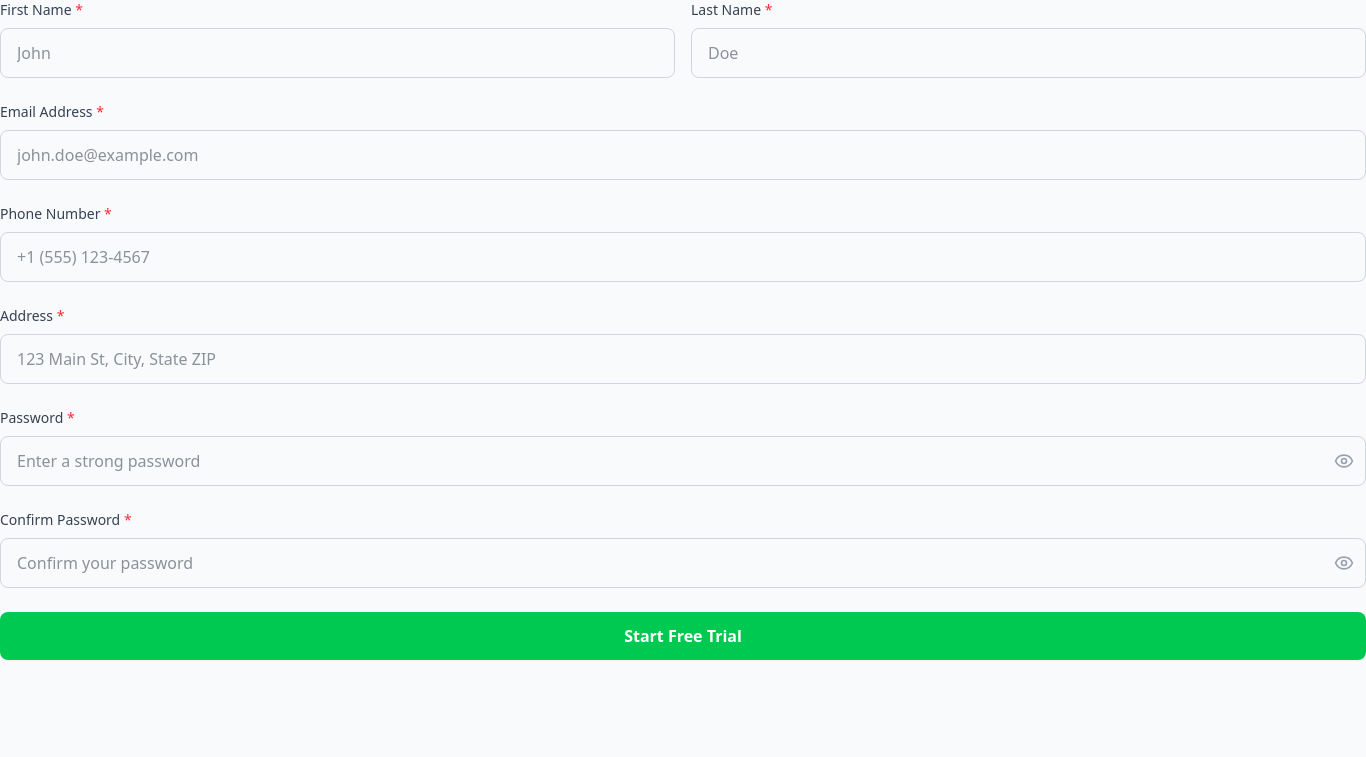
Test case: RegistrationForm › Form Validation › should show error when first name is too short
Step 1. Type "A" into the field labelled "First Name *" → (338,53), box [0,28,675,78]
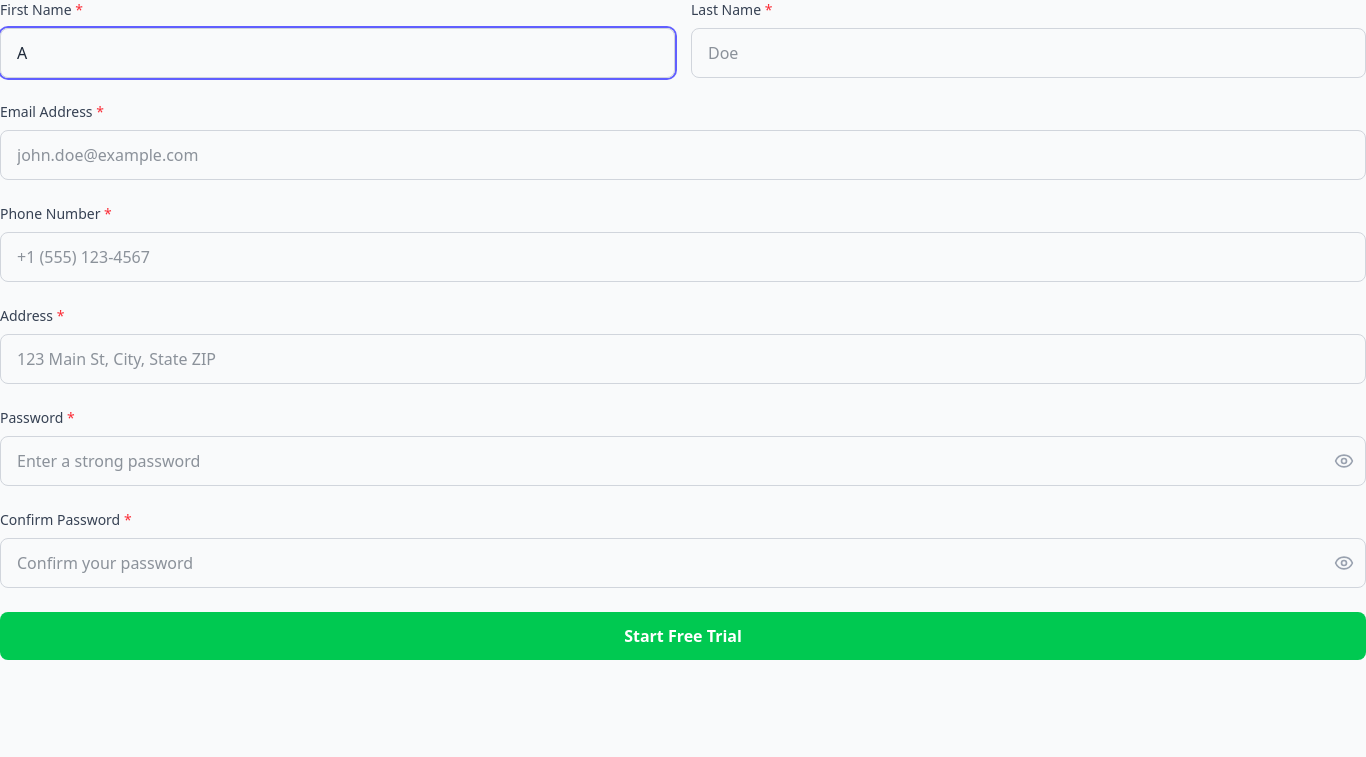
Step 2. Click the button "Start Free Trial" → (683,636), box [0,612,1365,660]
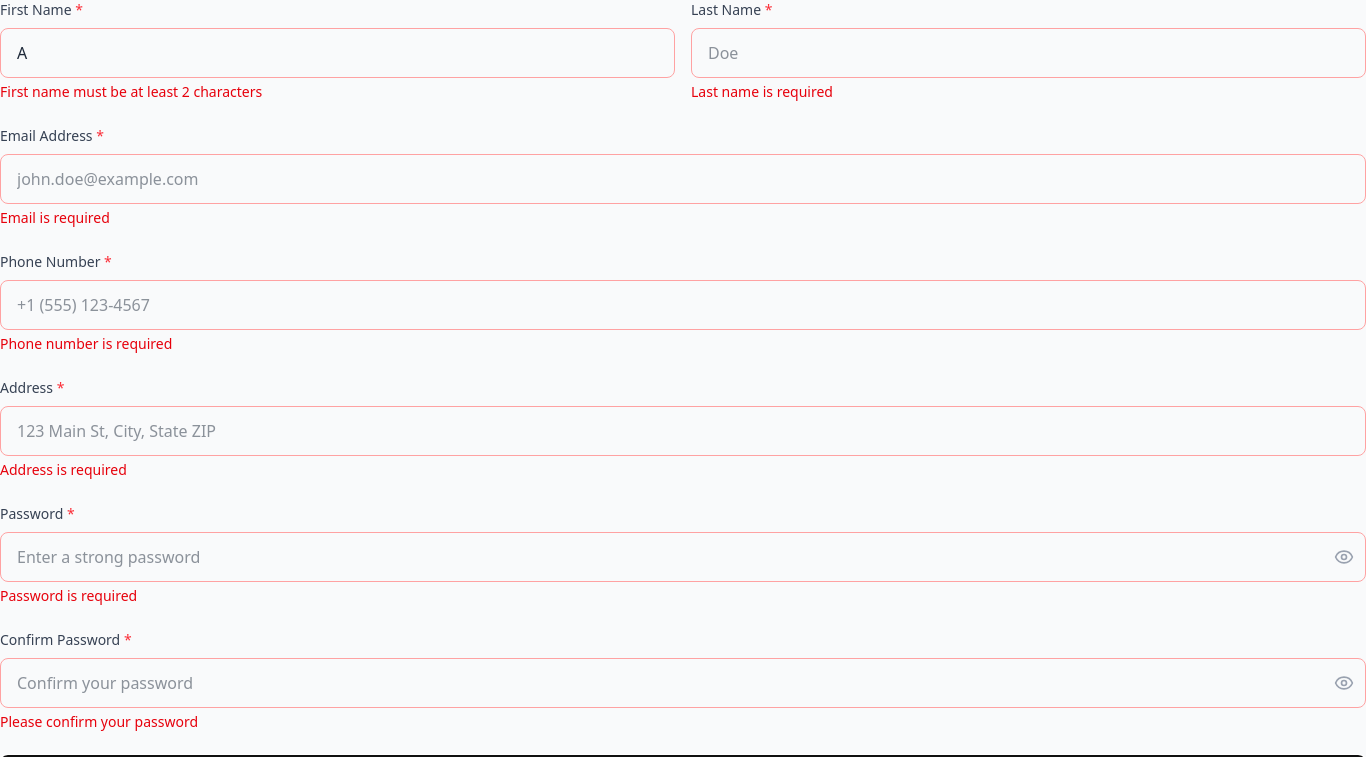
Expected: the text "First name must be at least 2 characters" is shown, [0,82,262,101]
